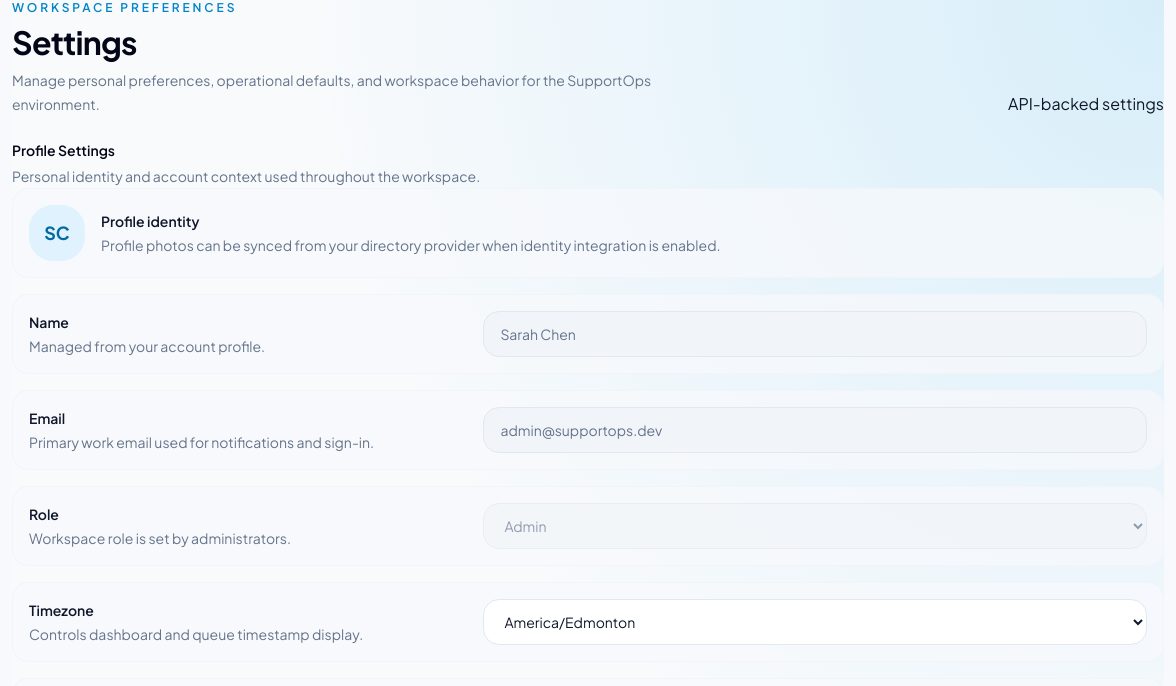
SettingsPage › loads preferences and saves profile changes through the backend API
Step 1. Select "Europe/London" in the dropdown in the row of "Timezone" → (815, 622), box [483,599,1147,645]
(page scrolled)
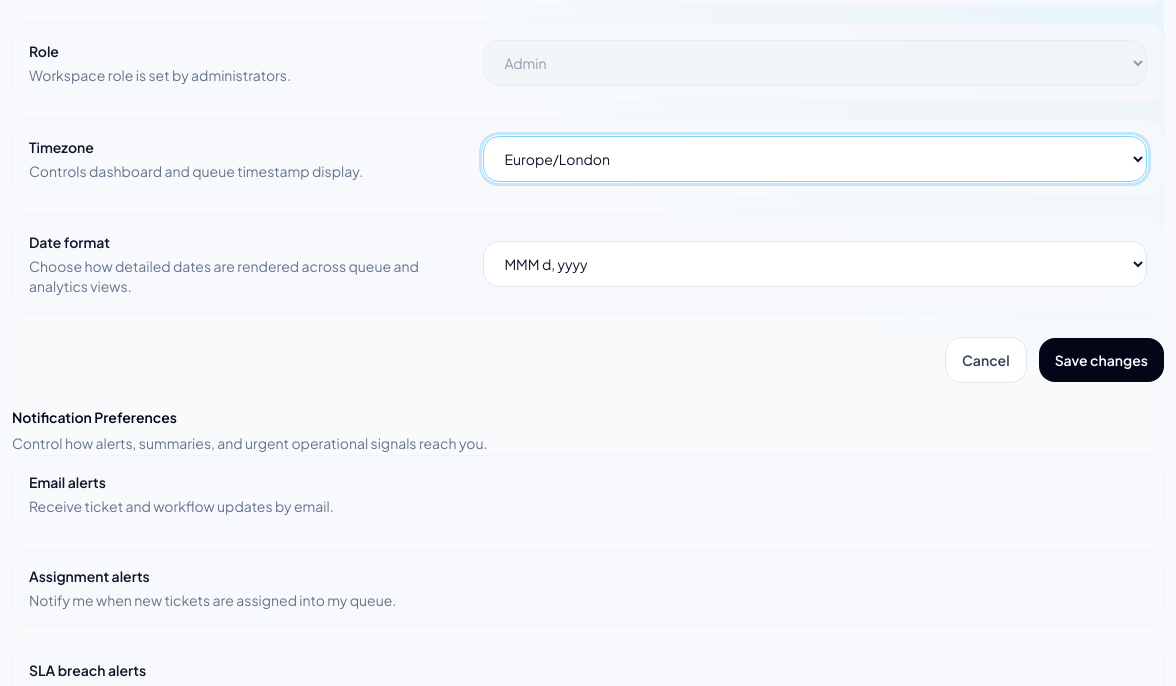
Step 2. Click the button "Save changes" → (1101, 360), box [1039,338,1164,382]
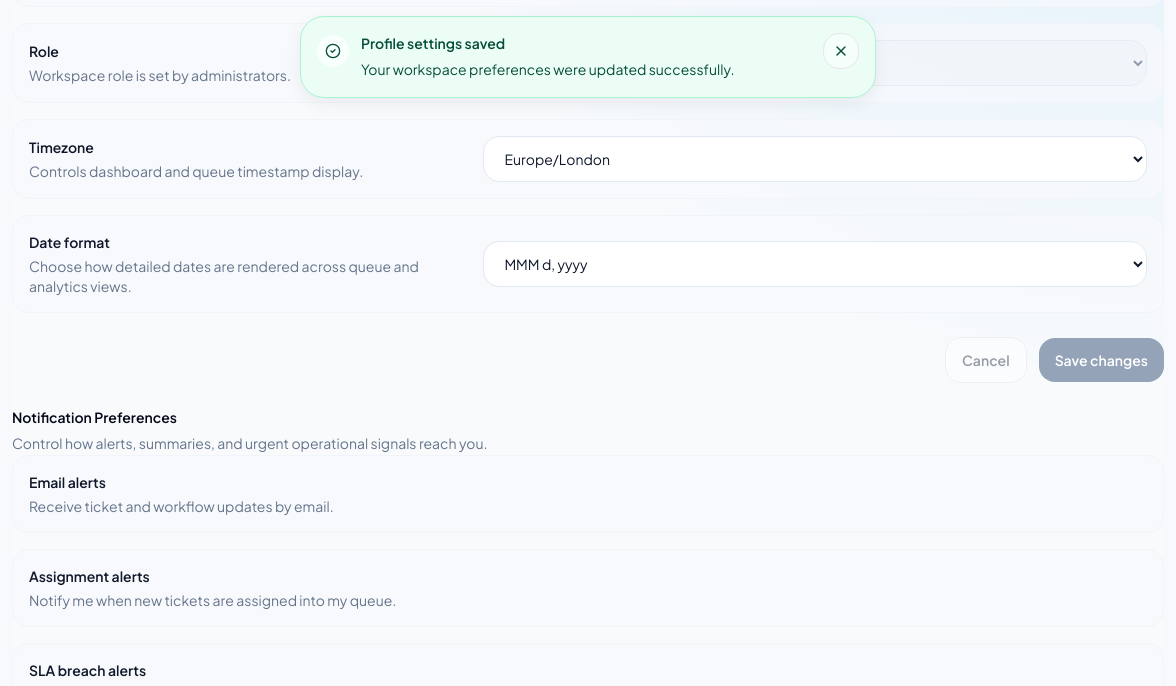
Expected: the text "Your workspace preferences were updated successfully." is shown, [361,60,734,78]
